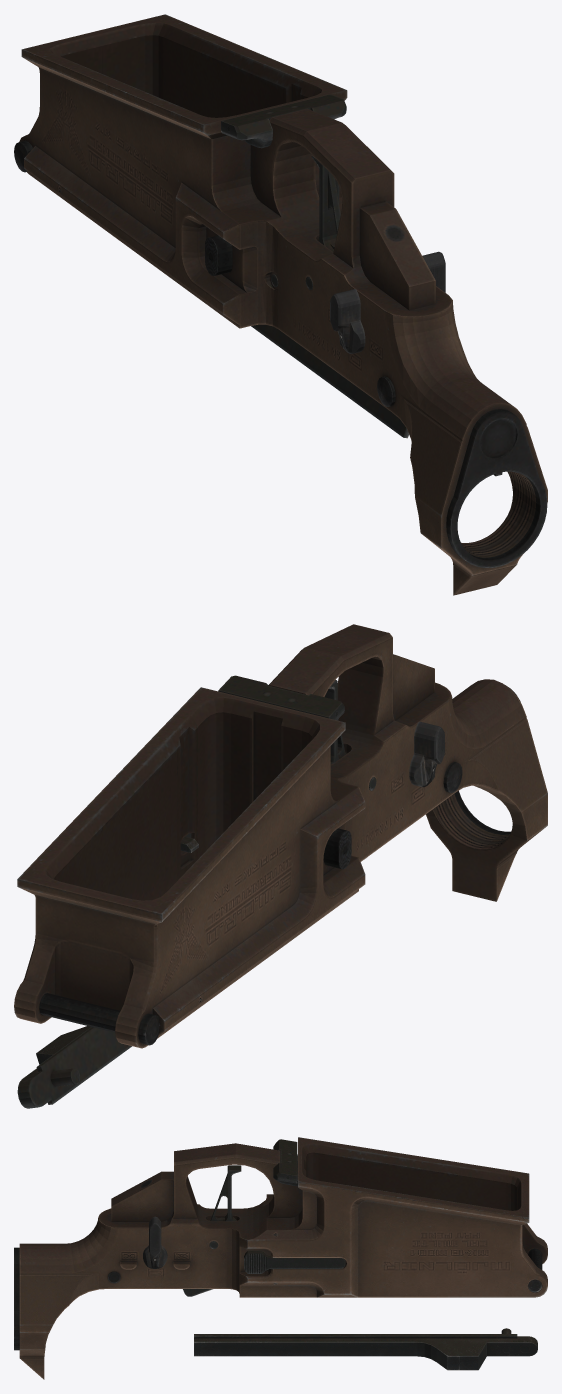
3 renders of one model, top to bottom at view 1: azimuth 30°, elevation 25°; view 2: azimuth 150°, elevation 25°; view 3: azimuth 270°, elevation 25°, orthographic. The views are drawn at different scales.
Parts seen in each view (by area): view 1: TW_5fc22d7c187fea44d52eda44_PZ_Import; view 2: TW_5fc22d7c187fea44d52eda44_PZ_Import; view 3: TW_5fc22d7c187fea44d52eda44_PZ_Import.
Part boxes in pixels (box(x1,y1,x2,y2)): TW_5fc22d7c187fea44d52eda44_PZ_Import: box(14, 14, 547, 595); TW_5fc22d7c187fea44d52eda44_PZ_Import: box(14, 624, 547, 1108); TW_5fc22d7c187fea44d52eda44_PZ_Import: box(14, 1137, 547, 1379).
Bounding box in the file's own units: 0.0341 × 0.1503 × 0.0696.
Materials: 1 (1 with a texture image).
